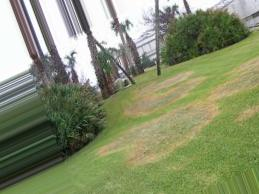patch: (136, 121, 180, 162), (208, 76, 251, 99), (182, 104, 211, 122), (162, 84, 191, 95), (142, 91, 156, 107)
